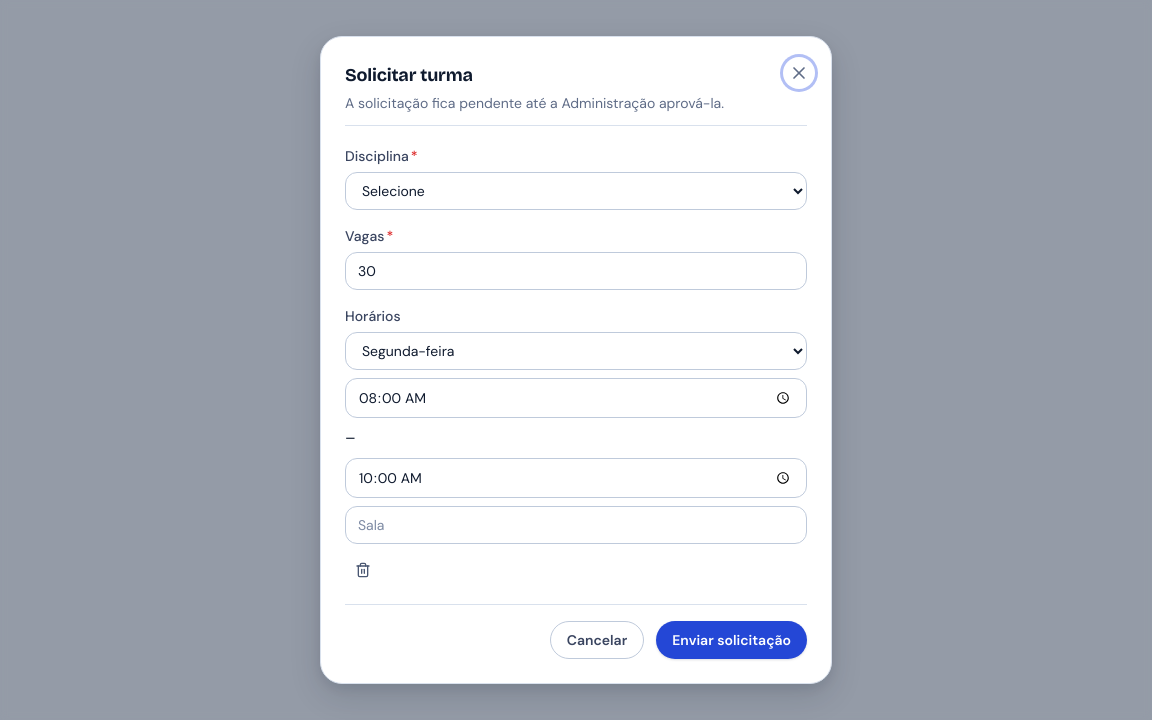
ClassFormModal › is a request for a teacher: no teacher or semester choice, and it must suggest a schedule
Select "CC101 - Programação" in the dropdown labelled "Disciplina*" at (576, 191), box 345,172 -> 807,210
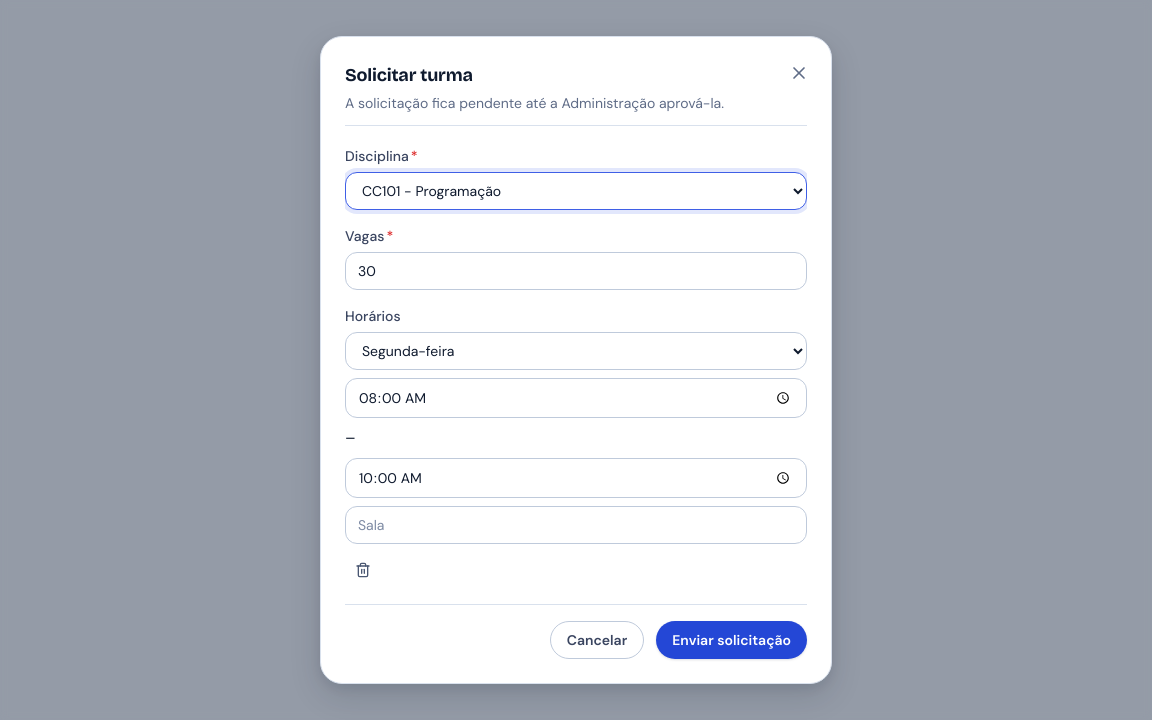
Click the button named "Remover horário 1".
click(363, 570)  # box 345,552 -> 381,588
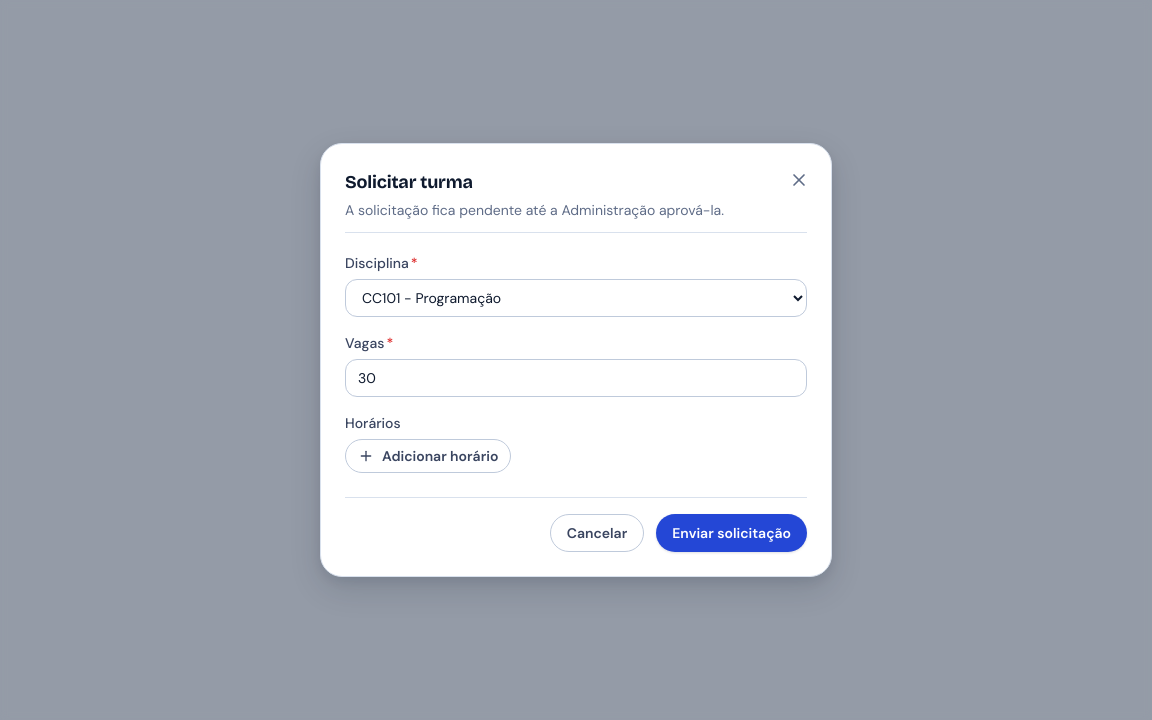
Click the button "Enviar solicitação".
click(732, 533)  # box 656,514 -> 807,552
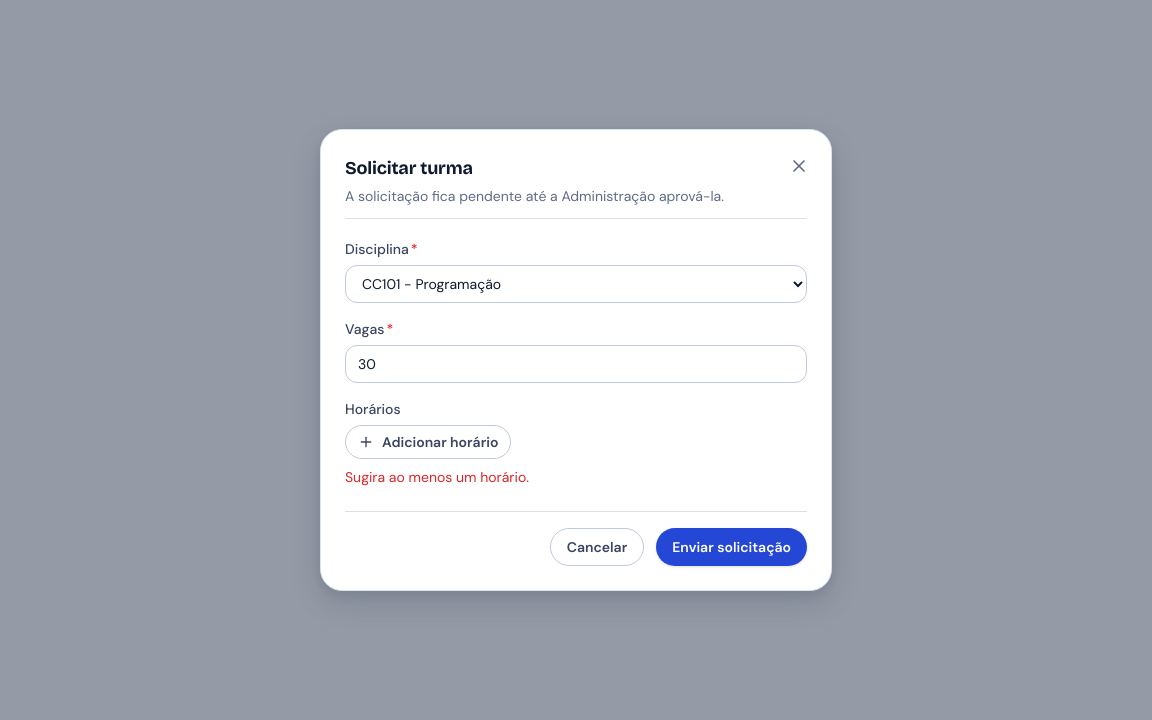
Now the text "Sugira ao menos um horário." is shown, box 345,468 -> 529,486
